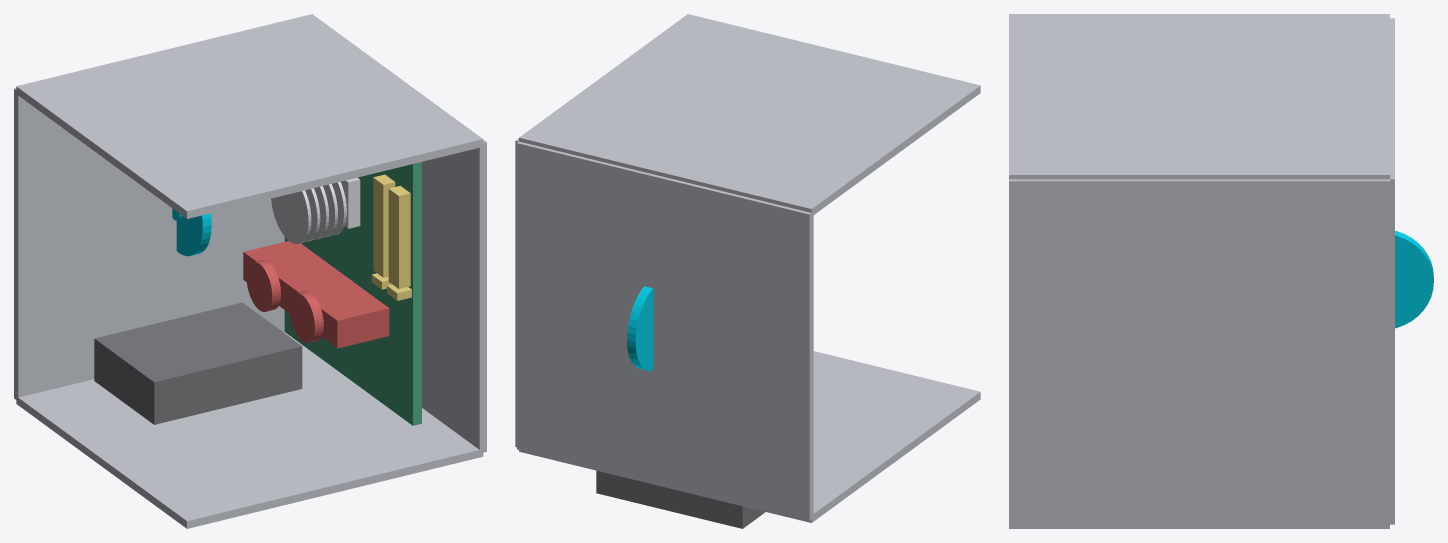
3 views of the same model, side by side, from view 1: azimuth 30°, elevation 25°; view 2: azimuth 150°, elevation 25°; view 3: azimuth 270°, elevation 25° (orthographic). The views are drawn at different scales.
Parts seen in each view (by area): view 1: case, psu, motherboard, gpu, cpu_cooler, ram_2, ram_1, fan, cpu; view 2: case, psu, fan; view 3: case, fan.
Part boxes in pixels (box(x1,y1,x2,y2)): case: box(14, 14, 486, 528); psu: box(94, 302, 302, 424); motherboard: box(284, 162, 421, 425); gpu: box(243, 241, 389, 348); cpu_cooler: box(271, 181, 346, 244); ram_2: box(387, 185, 411, 300); ram_1: box(371, 174, 395, 289); fan: box(172, 208, 211, 256); cpu: box(341, 177, 360, 228); case: box(515, 14, 980, 522); psu: box(596, 470, 765, 528); fan: box(627, 286, 652, 370); case: box(1009, 14, 1394, 528); fan: box(1395, 230, 1433, 328).
Bounding box in the file's own units: 2.02 × 2.23 × 2.23.
